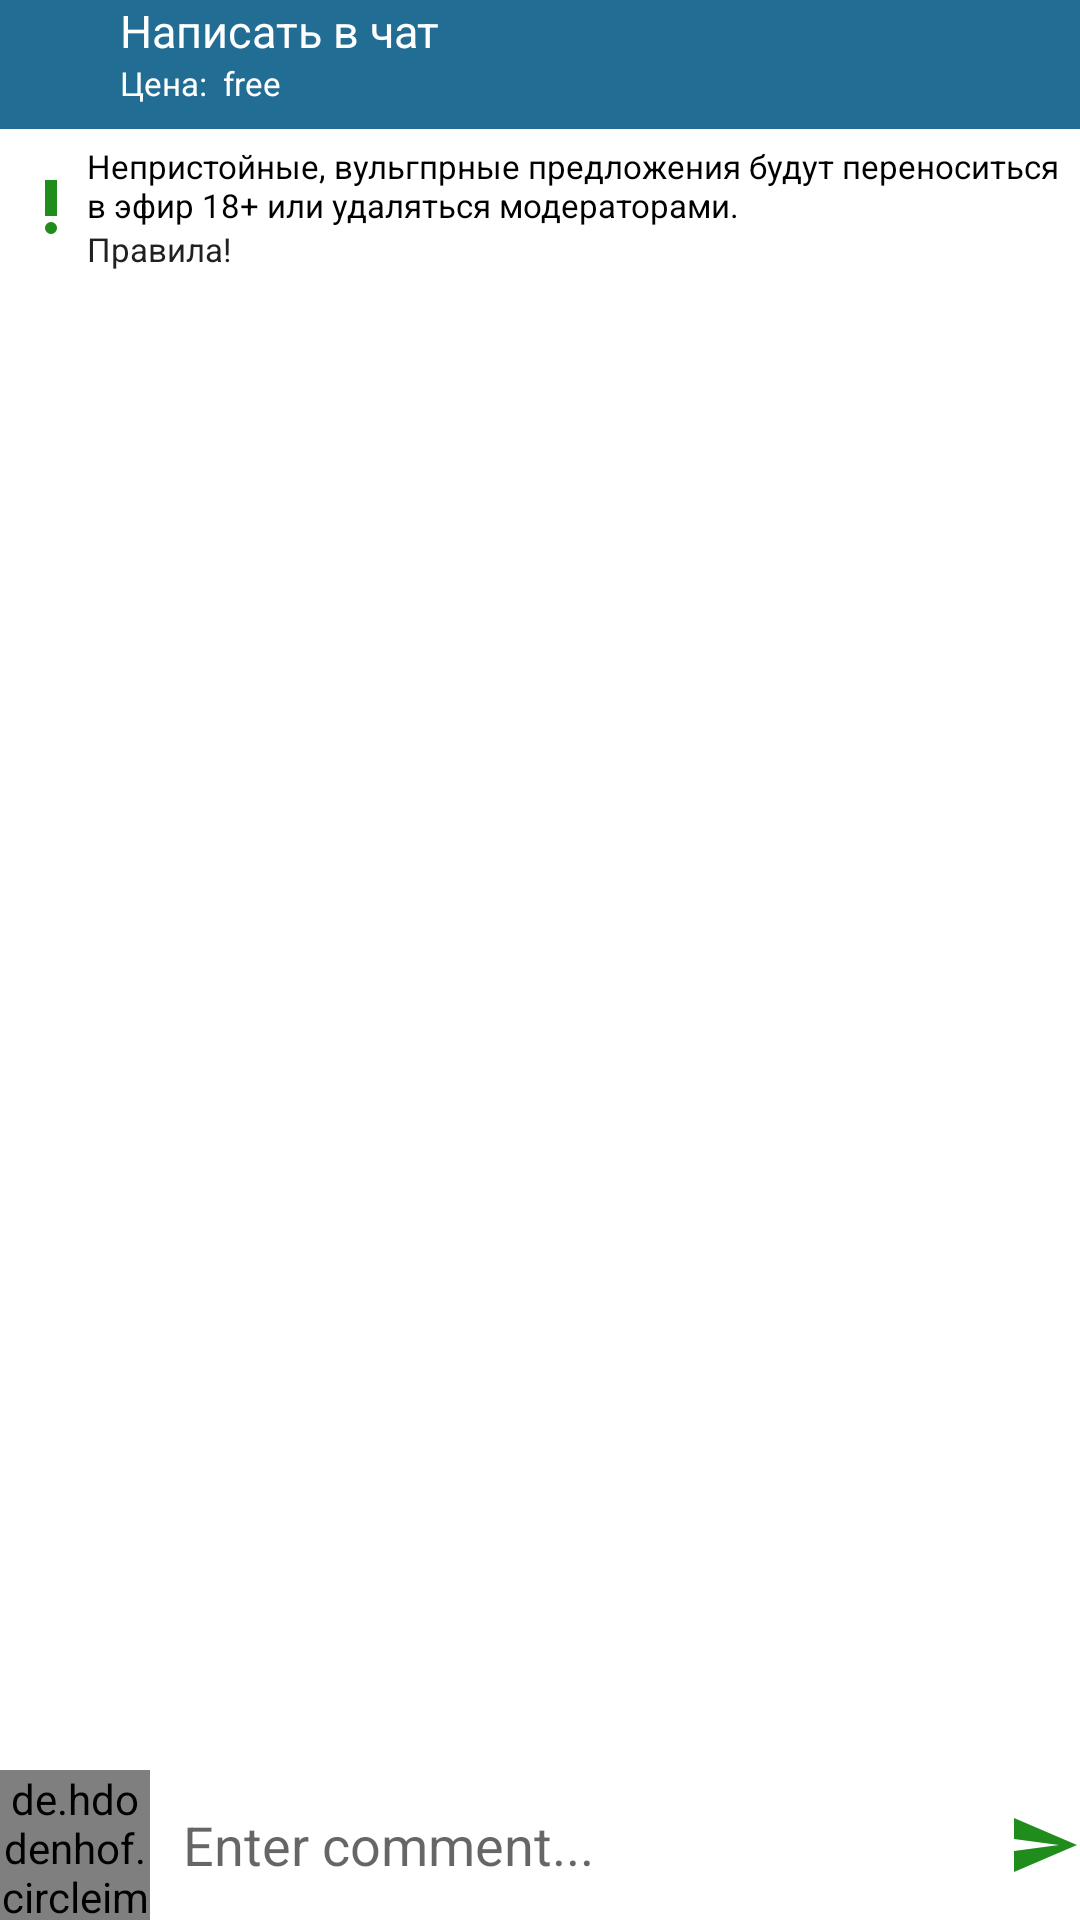

Named icons in this screenshot (1080×1920) and their centers, (x=x, y=y):
attention: (x=51, y=207)
send: (x=1045, y=1845)
